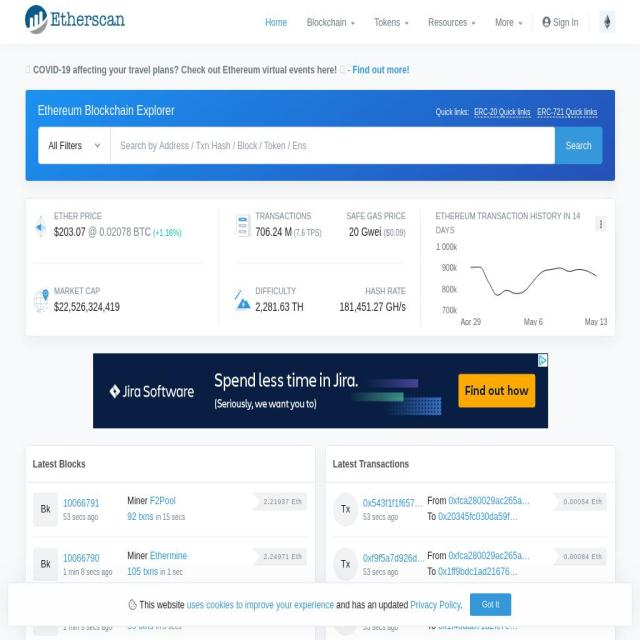button: (24, 4, 125, 40), (297, 3, 365, 41), (418, 3, 486, 41), (364, 3, 419, 41), (555, 126, 603, 165), (485, 3, 533, 41), (438, 508, 521, 525), (448, 493, 531, 509), (448, 547, 531, 563), (438, 563, 521, 579), (448, 602, 531, 618), (438, 618, 521, 634), (265, 3, 297, 41), (363, 495, 426, 512), (363, 604, 426, 621), (363, 550, 426, 566), (470, 593, 511, 616), (537, 106, 597, 118), (474, 106, 530, 118), (150, 547, 188, 563), (150, 602, 188, 618), (150, 493, 177, 509), (598, 11, 616, 33), (594, 215, 608, 233)
field: (110, 126, 556, 165), (38, 126, 110, 165)
heading: (436, 210, 595, 238), (37, 99, 175, 120), (54, 209, 204, 224), (54, 284, 204, 299), (255, 209, 347, 224), (255, 284, 340, 299), (332, 456, 410, 472), (339, 284, 406, 299), (346, 209, 406, 224), (32, 456, 86, 472)
iframe: (84, 353, 556, 429)
image: (436, 238, 608, 326), (24, 4, 125, 35), (32, 289, 49, 313), (233, 214, 250, 237), (233, 289, 250, 312), (35, 214, 47, 239), (601, 14, 613, 30)
link: (186, 597, 334, 611), (54, 300, 120, 314), (352, 62, 409, 76), (410, 597, 461, 611), (255, 300, 304, 314), (255, 225, 292, 239), (63, 497, 100, 510), (63, 606, 100, 619), (127, 564, 160, 578), (63, 552, 100, 564), (126, 619, 156, 633), (126, 510, 156, 523)
text: (32, 62, 337, 76), (334, 597, 411, 611), (32, 546, 58, 582), (332, 546, 358, 582), (86, 225, 151, 239), (32, 492, 58, 526), (32, 602, 58, 636), (332, 492, 358, 526), (332, 602, 358, 636), (363, 511, 426, 524), (363, 620, 426, 633), (363, 566, 426, 578), (140, 597, 188, 611), (63, 620, 113, 633), (340, 300, 384, 314), (63, 566, 113, 578), (63, 511, 106, 524), (348, 225, 384, 239), (54, 225, 86, 239), (436, 105, 470, 118), (566, 137, 592, 153), (553, 15, 579, 28), (383, 300, 406, 314), (127, 494, 150, 508), (127, 548, 150, 562), (127, 603, 150, 617), (150, 228, 182, 238), (270, 496, 302, 506), (270, 551, 302, 561), (270, 606, 302, 616), (570, 496, 602, 506), (570, 551, 602, 561), (570, 606, 602, 616), (292, 228, 322, 238), (156, 512, 186, 522), (427, 494, 448, 508), (427, 548, 448, 562), (427, 603, 448, 617), (584, 316, 608, 328), (156, 622, 182, 632), (461, 316, 481, 328), (383, 228, 406, 238), (160, 566, 183, 576), (524, 316, 543, 328), (337, 62, 353, 76), (437, 242, 458, 252), (442, 262, 457, 274), (442, 305, 457, 316), (442, 284, 457, 295), (427, 564, 438, 578), (427, 619, 438, 633), (427, 510, 438, 523), (24, 62, 34, 76), (264, 496, 268, 506), (264, 551, 268, 561), (264, 606, 268, 616), (564, 496, 568, 506), (564, 551, 568, 561), (564, 606, 568, 616), (460, 597, 462, 611), (268, 496, 270, 506), (268, 551, 270, 561), (268, 606, 270, 616), (568, 496, 570, 506), (568, 551, 570, 561), (568, 606, 570, 616)
